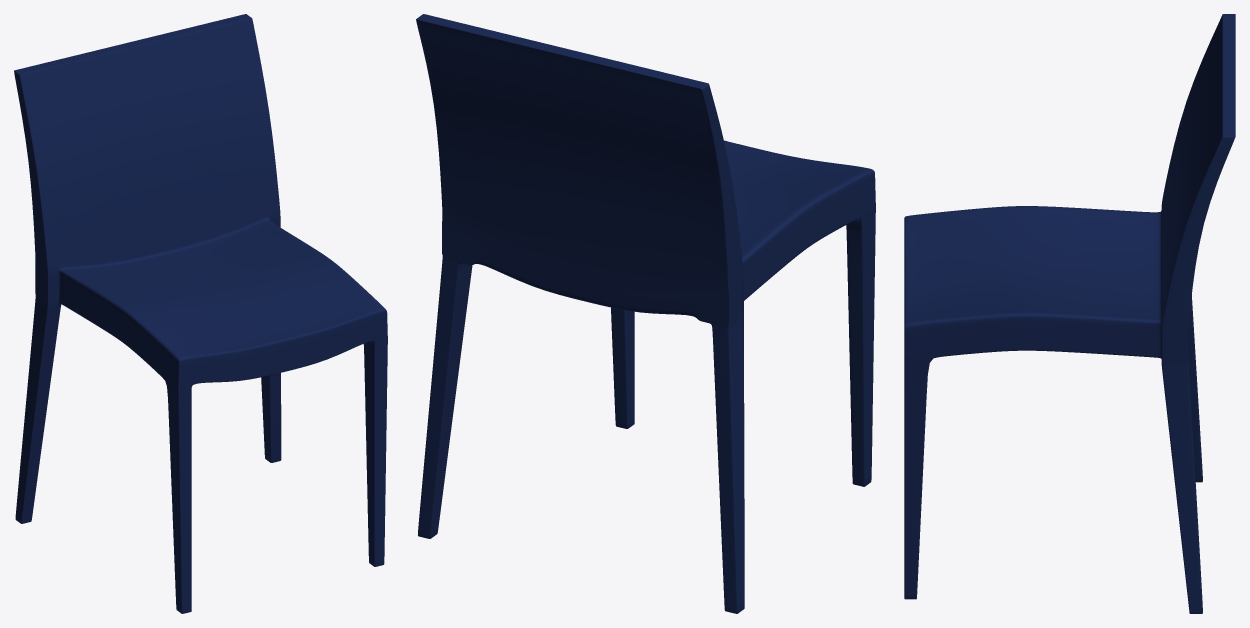
Rendered from Garden chair.fbx.
3 renders of one model, left to right at view 1: azimuth 30°, elevation 25°; view 2: azimuth 150°, elevation 25°; view 3: azimuth 270°, elevation 25°, orthographic. The views are drawn at different scales.
Visible parts, largest first — view 1: Chair; view 2: Chair; view 3: Chair.
Part boxes in pixels (x1=…): Chair: x1=14, y1=14, x2=387, y2=613; Chair: x1=416, y1=14, x2=875, y2=613; Chair: x1=904, y1=14, x2=1235, y2=613.
Bounding box in the file's own units: 50 × 80 × 51.
